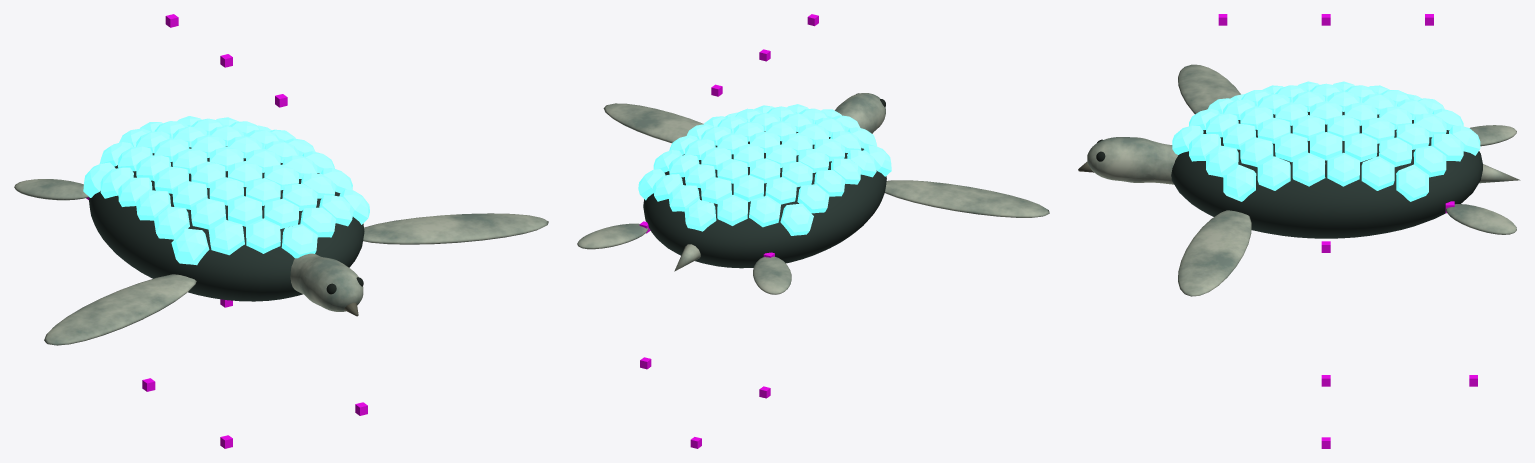
File: 06_tartaruga_fosforica.glb
The picture shows the model from 3 angles, left to right: view 1: azimuth 30°, elevation 25°; view 2: azimuth 150°, elevation 25°; view 3: azimuth 270°, elevation 25°; orthographic projection. The views are drawn at different scales.
Parts seen in each view (by area): view 1: Tartaruga__Guscio_Base__Galleggiamento, Tartaruga__Cella_1__Galleggiamento, Tartaruga__Cella_0__Galleggiamento, Tartaruga__Pelle__Pinna_Ant_L, Tartaruga__Cella_2__Galleggiamento, Tartaruga__Pelle__Pinna_Ant_R, Tartaruga__Cella_3__Galleggiamento, Tartaruga__Cella_4__Galleggiamento, Tartaruga__Pelle__Galleggiamento, Tartaruga__Cella_5__Galleggiamento, Tartaruga__Cella_6__Galleggiamento, Tartaruga__Pelle__Pinna_Post_L (+1 smaller); view 2: Tartaruga__Guscio_Base__Galleggiamento, Tartaruga__Cella_6__Galleggiamento, Tartaruga__Cella_5__Galleggiamento, Tartaruga__Pelle__Pinna_Ant_L, Tartaruga__Cella_4__Galleggiamento, Tartaruga__Cella_3__Galleggiamento, Tartaruga__Cella_2__Galleggiamento, Tartaruga__Cella_7__Galleggiamento, Tartaruga__Pelle__Pinna_Ant_R, Tartaruga__Cella_1__Galleggiamento, Tartaruga__Pelle__Galleggiamento, Tartaruga__Pelle__Pinna_Post_L (+2 smaller); view 3: Tartaruga__Guscio_Base__Galleggiamento, Tartaruga__Pelle__Pinna_Ant_R, Tartaruga__Pelle__Galleggiamento, Tartaruga__Cella_2__Galleggiamento, Tartaruga__Cella_6__Galleggiamento, Tartaruga__Cella_1__Galleggiamento, Tartaruga__Cella_5__Galleggiamento, Tartaruga__Cella_4__Galleggiamento, Tartaruga__Cella_3__Galleggiamento, Tartaruga__Cella_0__Galleggiamento, Tartaruga__Pelle__Pinna_Ant_L, Tartaruga__Cella_7__Galleggiamento (+2 smaller).
Part boxes in pixels (box(x1,y1,x2,y2)): Tartaruga__Guscio_Base__Galleggiamento: box(89, 146, 364, 301); Tartaruga__Cella_1__Galleggiamento: box(171, 173, 369, 265); Tartaruga__Cella_0__Galleggiamento: box(208, 195, 353, 258); Tartaruga__Pelle__Pinna_Ant_L: box(44, 274, 196, 345); Tartaruga__Cella_2__Galleggiamento: box(154, 155, 352, 239); Tartaruga__Pelle__Pinna_Ant_R: box(363, 213, 548, 244); Tartaruga__Cella_3__Galleggiamento: box(136, 141, 334, 220); Tartaruga__Cella_4__Galleggiamento: box(118, 130, 315, 206); Tartaruga__Pelle__Galleggiamento: box(290, 253, 363, 311); Tartaruga__Cella_5__Galleggiamento: box(100, 121, 295, 198); Tartaruga__Cella_6__Galleggiamento: box(83, 117, 271, 197); Tartaruga__Pelle__Pinna_Post_L: box(14, 179, 88, 200); Tartaruga__Guscio_Base__Galleggiamento: box(643, 131, 886, 268); Tartaruga__Cella_6__Galleggiamento: box(638, 164, 813, 235); Tartaruga__Cella_5__Galleggiamento: box(653, 147, 829, 213); Tartaruga__Pelle__Pinna_Ant_L: box(884, 180, 1049, 217); Tartaruga__Cella_4__Galleggiamento: box(669, 133, 845, 196); Tartaruga__Cella_3__Galleggiamento: box(686, 122, 860, 184); Tartaruga__Cella_2__Galleggiamento: box(704, 113, 876, 177); Tartaruga__Cella_7__Galleggiamento: box(668, 185, 747, 231); Tartaruga__Pelle__Pinna_Ant_R: box(603, 103, 703, 143); Tartaruga__Cella_1__Galleggiamento: box(725, 106, 891, 176); Tartaruga__Pelle__Galleggiamento: box(674, 93, 885, 271); Tartaruga__Pelle__Pinna_Post_L: box(753, 256, 791, 294); Tartaruga__Guscio_Base__Galleggiamento: box(1171, 111, 1482, 238); Tartaruga__Pelle__Pinna_Ant_R: box(1178, 210, 1251, 296); Tartaruga__Pelle__Galleggiamento: box(1087, 137, 1520, 184); Tartaruga__Cella_2__Galleggiamento: box(1257, 85, 1307, 190); Tartaruga__Cella_6__Galleggiamento: box(1396, 94, 1446, 201); Tartaruga__Cella_1__Galleggiamento: box(1223, 90, 1273, 201); Tartaruga__Cella_5__Galleggiamento: box(1361, 85, 1411, 190); Tartaruga__Cella_4__Galleggiamento: box(1327, 81, 1377, 186); Tartaruga__Cella_3__Galleggiamento: box(1292, 81, 1342, 186); Tartaruga__Cella_0__Galleggiamento: box(1172, 98, 1238, 177); Tartaruga__Pelle__Pinna_Ant_L: box(1178, 64, 1240, 114); Tartaruga__Cella_7__Galleggiamento: box(1431, 108, 1480, 161).
Size of the model in its own units: 5.58 by 4.14 by 4.5.
Materials: 18 (5 with a texture image).
